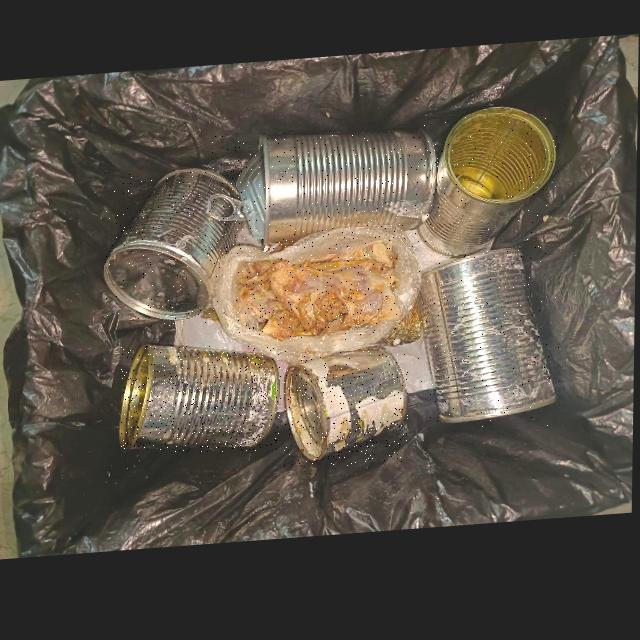biowaste: (227, 252, 397, 340)
metal: (208, 136, 439, 249), (418, 257, 559, 429), (104, 170, 246, 326), (420, 114, 558, 263), (121, 346, 281, 452), (284, 352, 408, 466)
